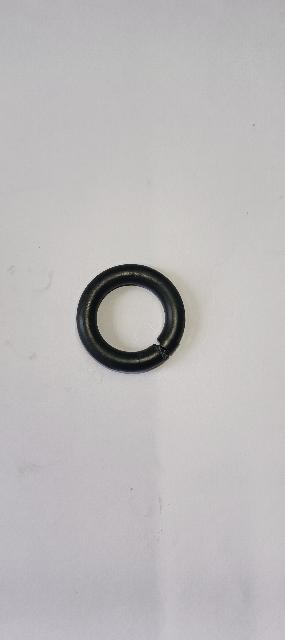crack: (151, 333, 176, 368)
scratch: (133, 350, 146, 374)
